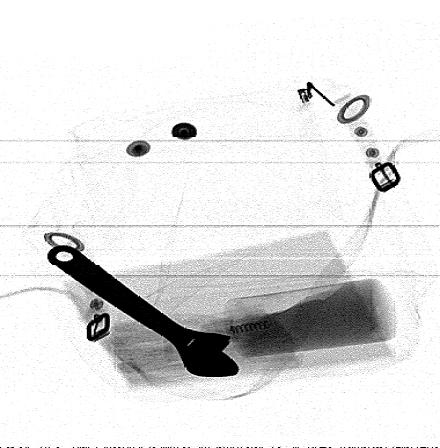Wrench: (45, 243, 242, 378)
